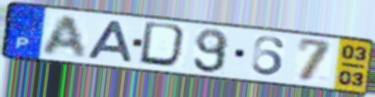6: (251, 35, 287, 78)
7: (294, 37, 335, 83)
9: (191, 27, 231, 75)
A: (83, 19, 135, 65), (39, 14, 89, 59)
D: (136, 20, 192, 71)
